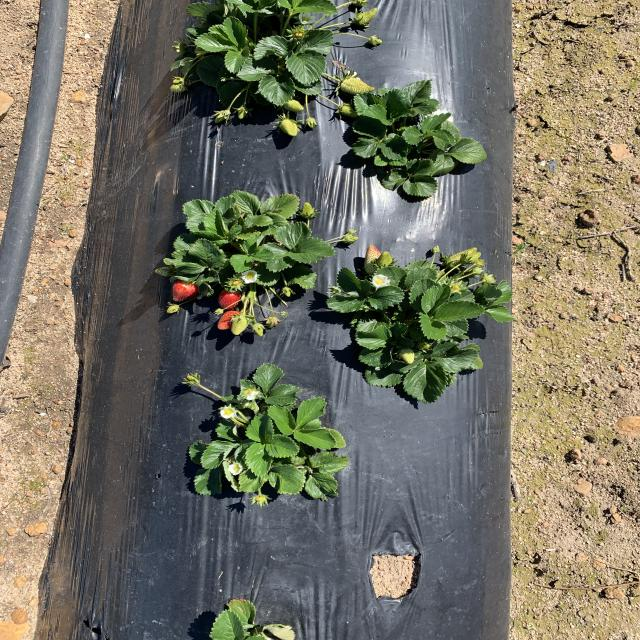unripe: (171, 280, 201, 303), (214, 286, 240, 310), (217, 311, 244, 331)
